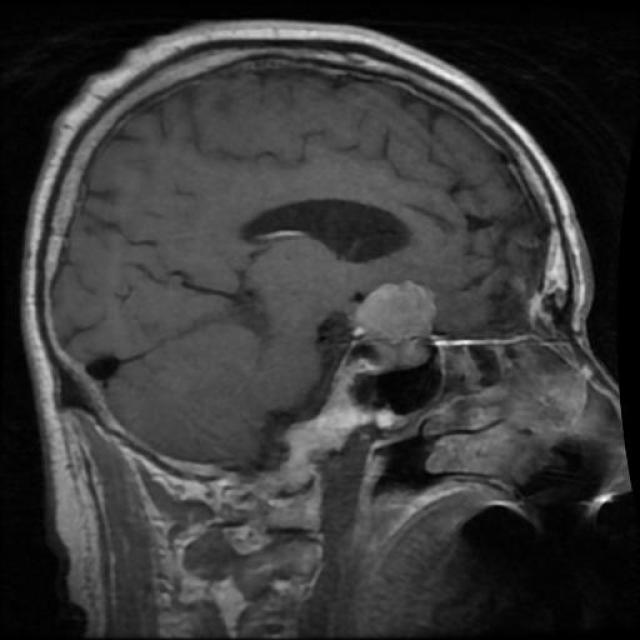pituitary: (334, 276, 438, 378)
